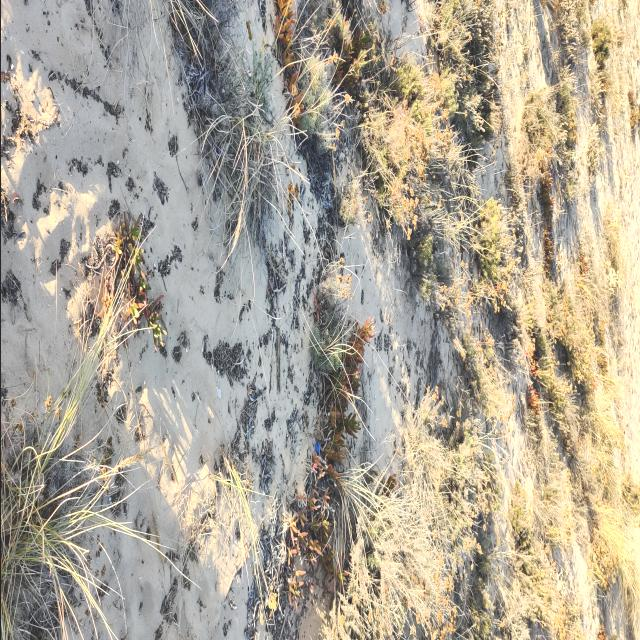Plastic bottle cap: (314, 441, 319, 453)
